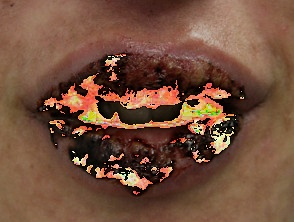SJS-TEN: (12, 0, 290, 222)
